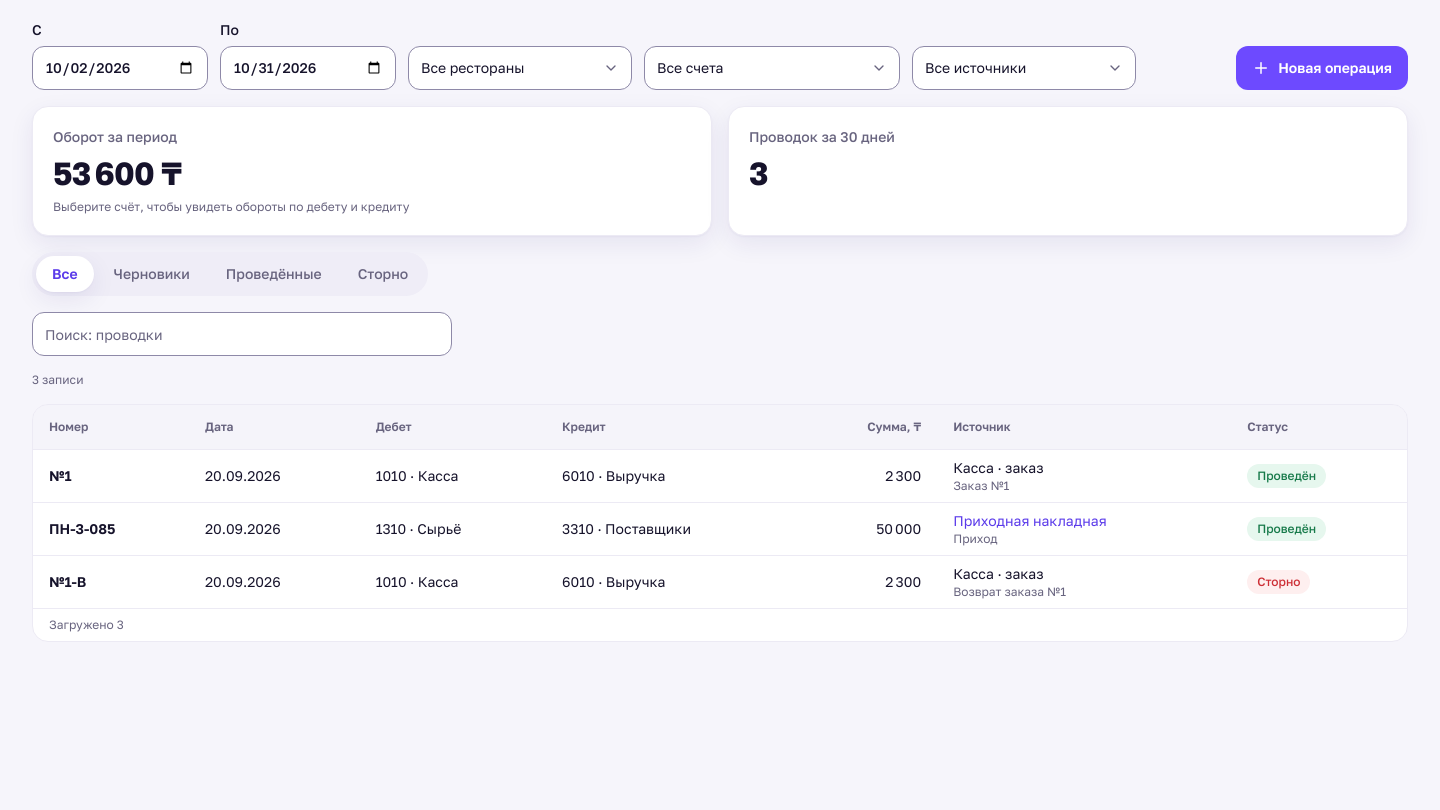
Scenario: «Проводки» journal (W1-FIN-05) › an incomplete period does not reach the server
The image size is (1440, 810).
Type "2026-10-01" into the date field named "Период с" at (120, 68), box [32,46,208,90]
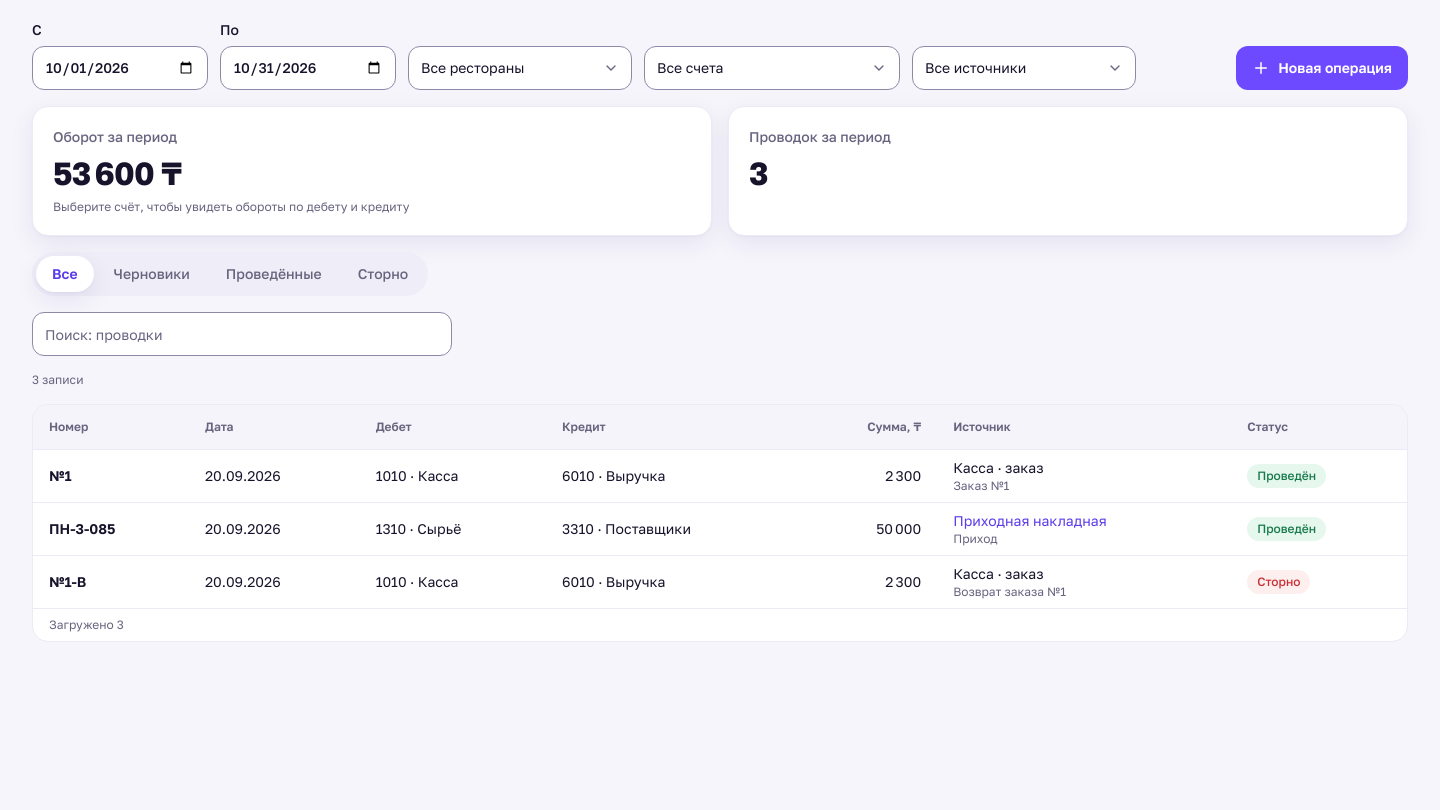
Type "2026-09-01" into the date field named "Период по" at (308, 68), box [220,46,396,90]
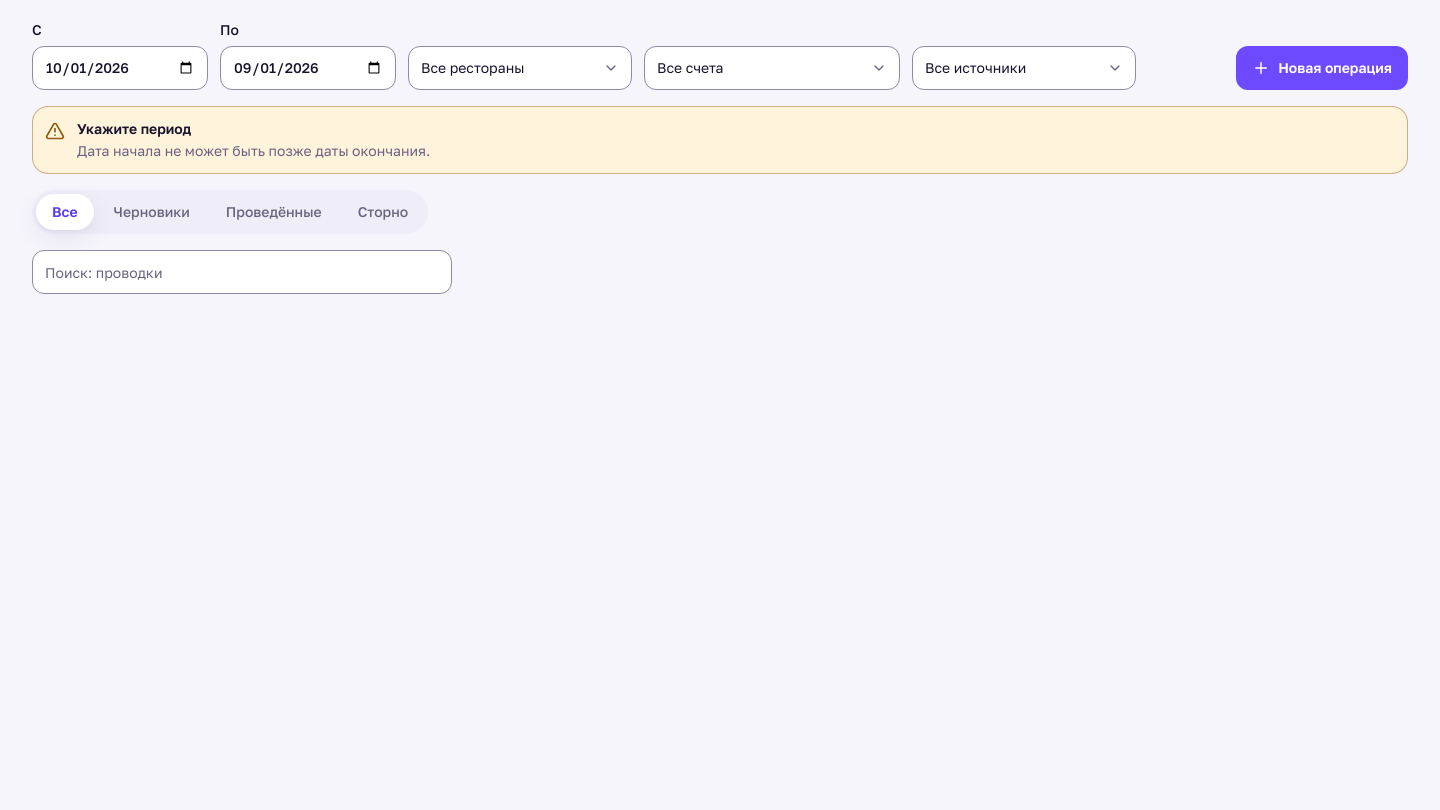
Expected: the text "Укажите период" is shown, [77,120,191,137]
